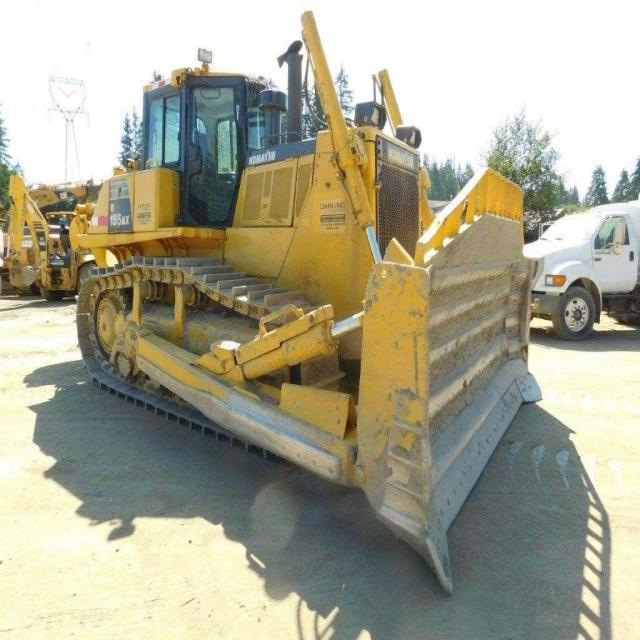Bulldozer: (11, 21, 616, 626)
